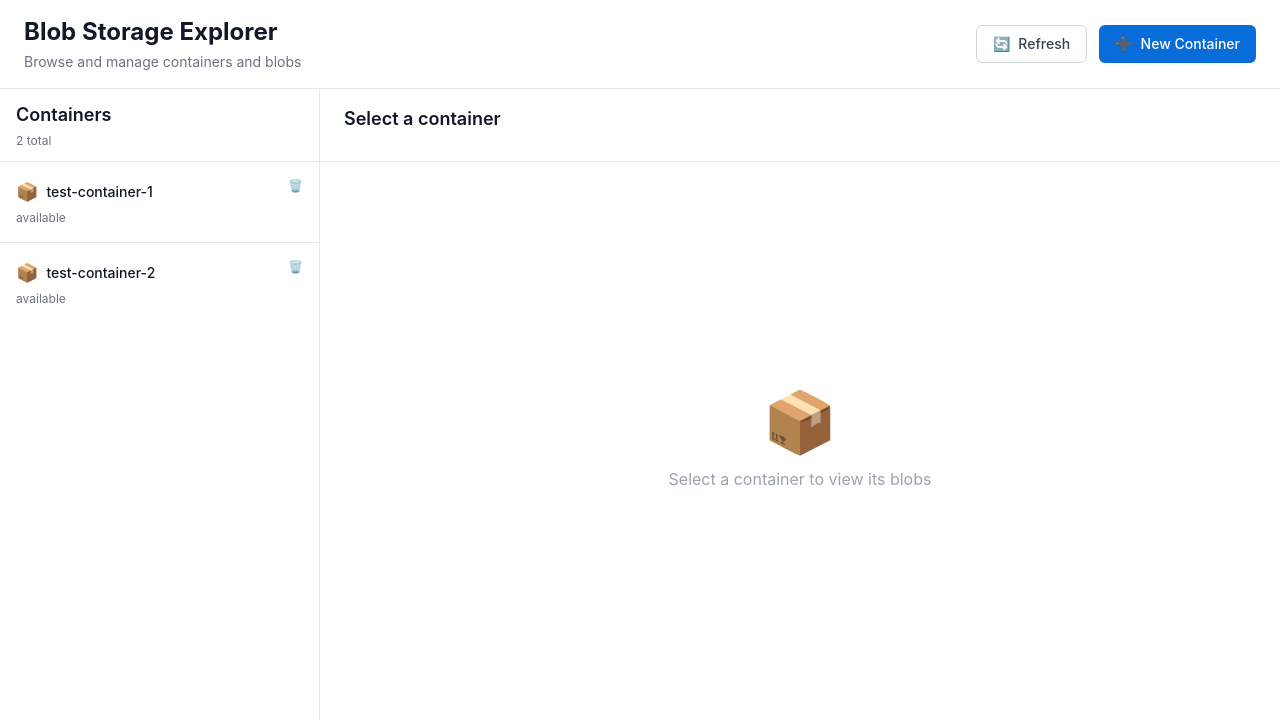
it: BlobStorage Component › Blob List › loads and displays blobs when container selected
This screenshot has width=1280, height=720.
Click the heading "test-container-1" at (100, 192), box x1=46 y1=182 x2=153 y2=202
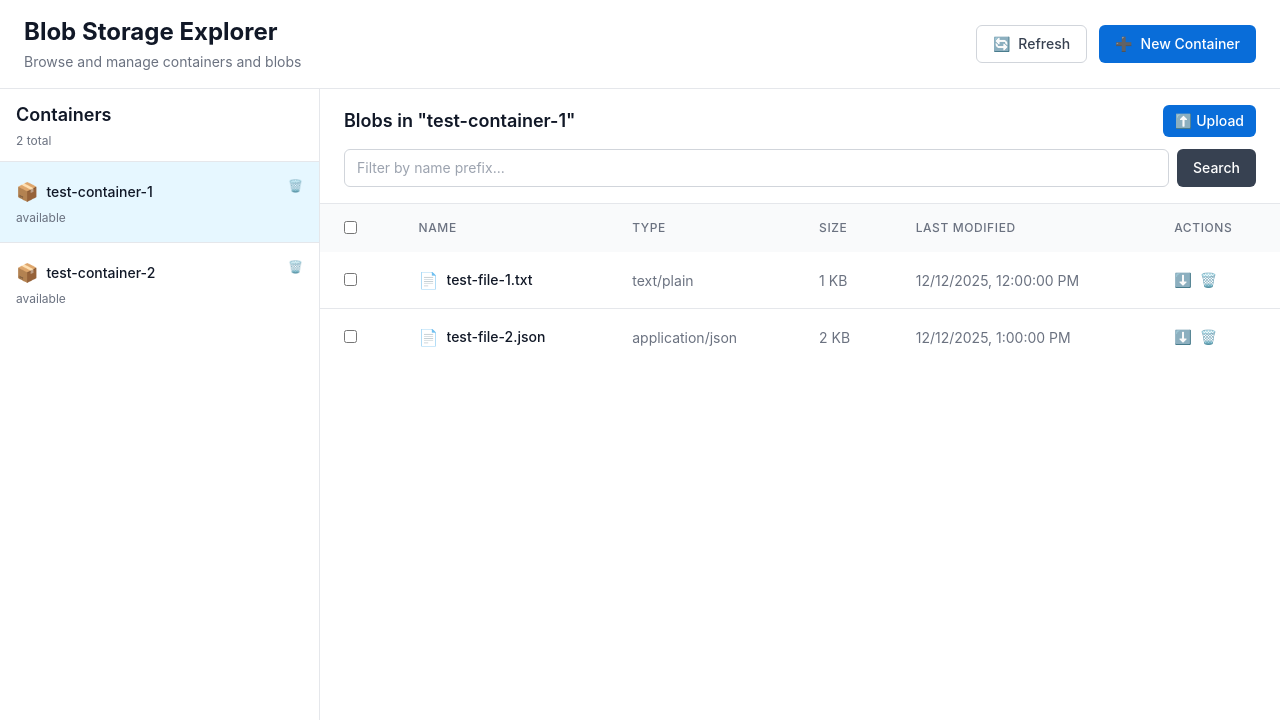
Expected: the text "test-file-1.txt" is shown, x1=446 y1=270 x2=533 y2=290
Expected: the text "test-file-2.json" is shown, x1=446 y1=327 x2=545 y2=347
